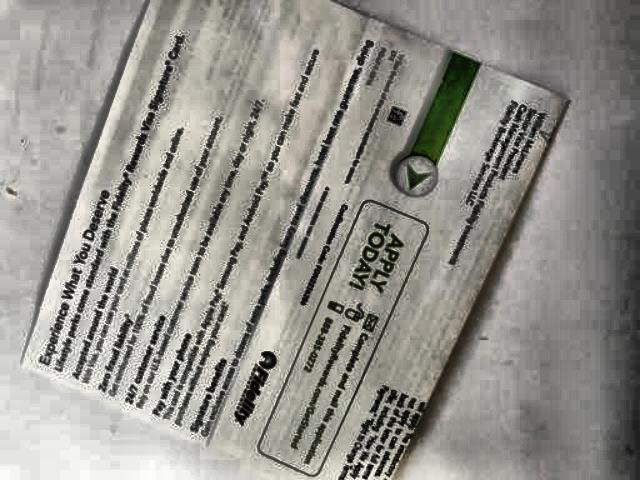Paper: (18, 0, 578, 480)
